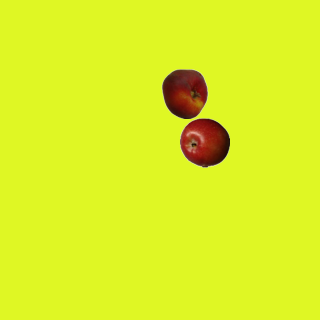Apple Braeburn: (179, 117, 229, 167)
Nectarine Flat: (159, 68, 209, 118)
